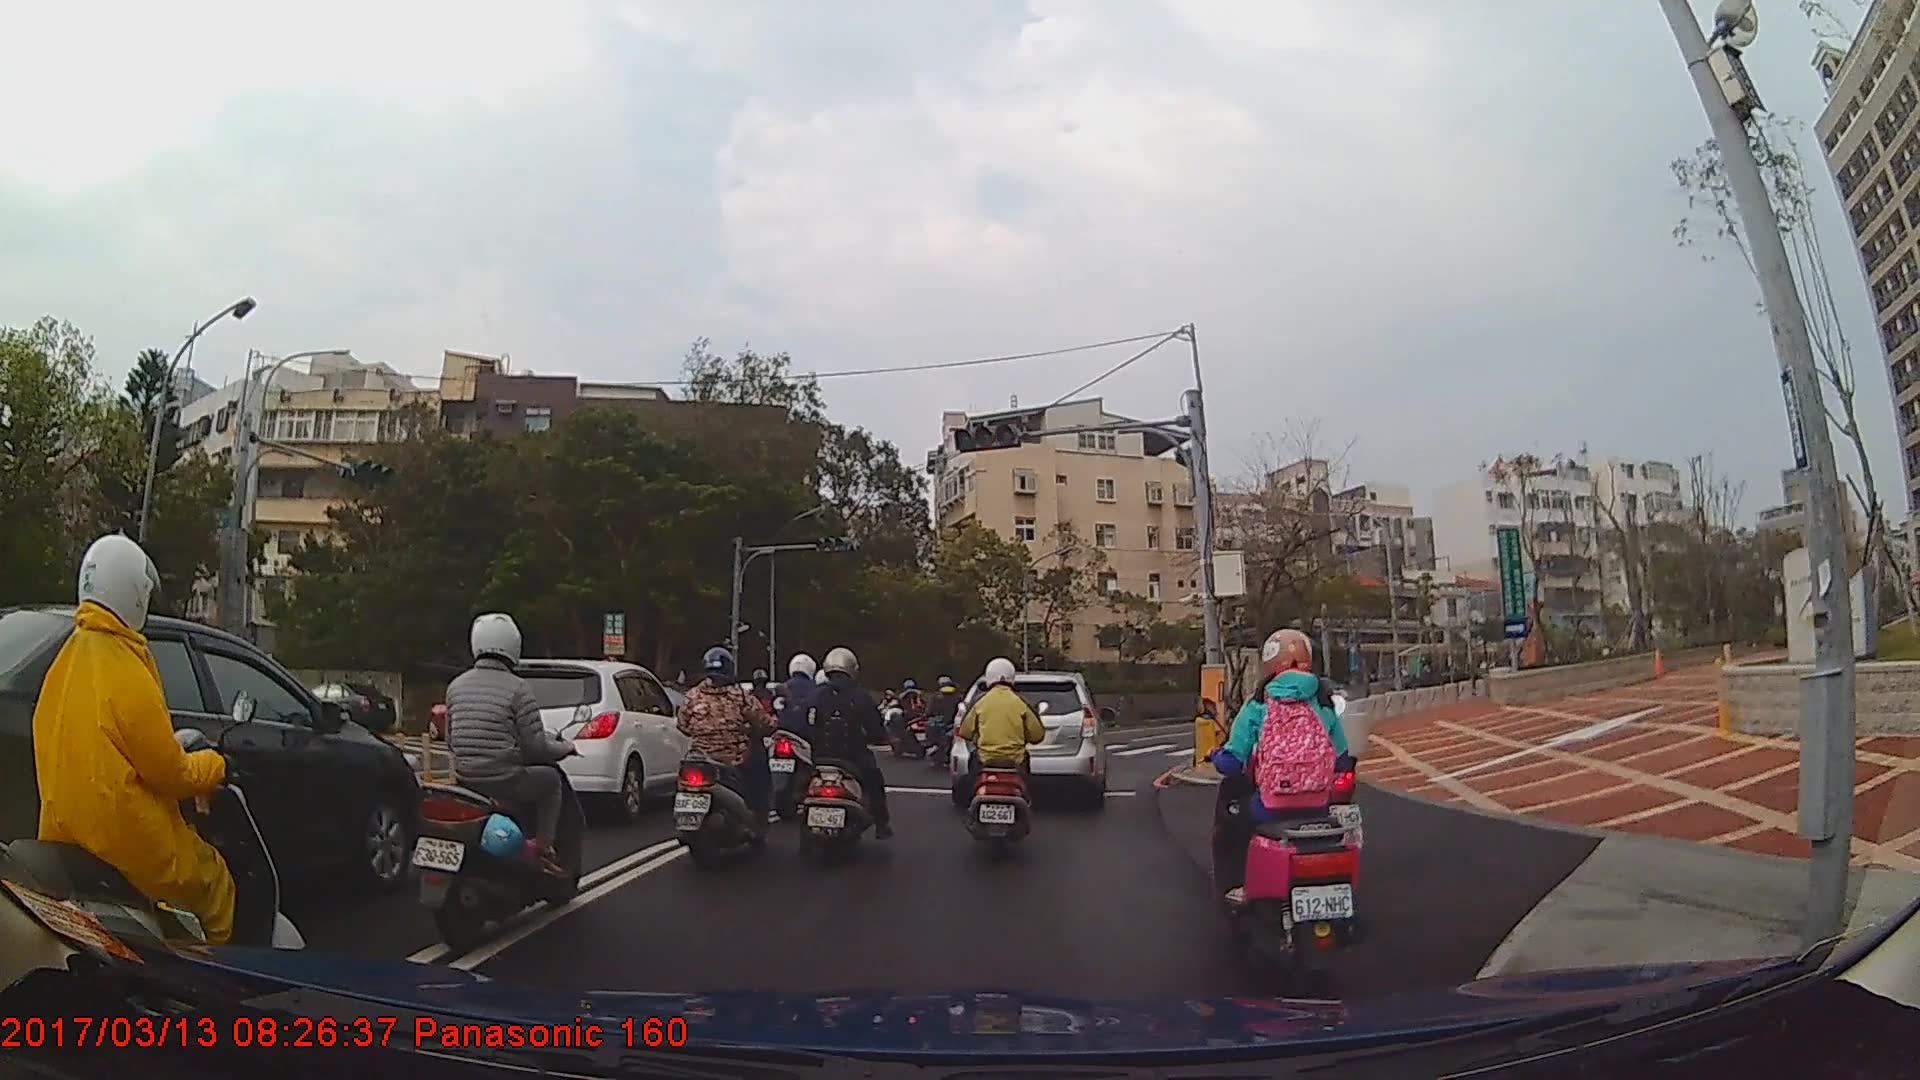rider: (4, 533, 309, 1020), (407, 611, 590, 954), (1210, 630, 1366, 962), (667, 642, 784, 872), (791, 641, 895, 864), (957, 653, 1050, 850), (764, 649, 834, 817), (913, 673, 975, 770), (879, 679, 936, 758)
vehicle: (0, 600, 426, 945), (462, 658, 704, 823), (949, 668, 1109, 806), (291, 678, 396, 732)
